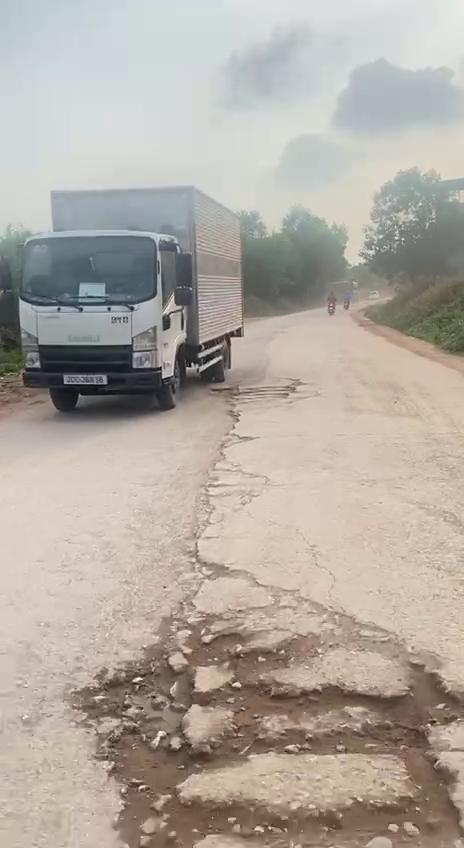pothole: (81, 607, 464, 848)
